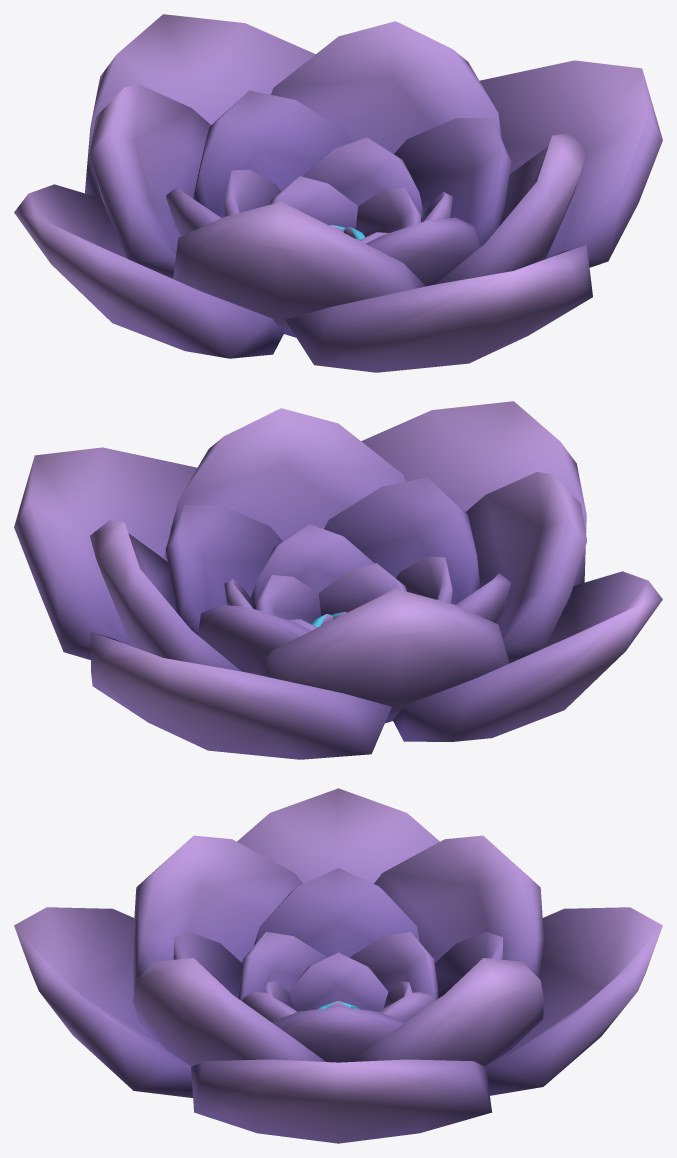
The model's file is plant1.fbx.
The picture shows the model from 3 angles, top to bottom: view 1: azimuth 30°, elevation 25°; view 2: azimuth 150°, elevation 25°; view 3: azimuth 270°, elevation 25°; orthographic projection. The views are drawn at different scales.
Parts seen in each view (by area): view 1: Plant_1; view 2: Plant_1; view 3: Plant_1.
Part boxes in pixels (left/top/right/bottom): Plant_1: left=14, top=14, right=662, bottom=372; Plant_1: left=14, top=401, right=662, bottom=759; Plant_1: left=14, top=788, right=662, bottom=1143.
Size of what is drawn, in the model's own units: 82.39 by 25.88 by 82.39.
